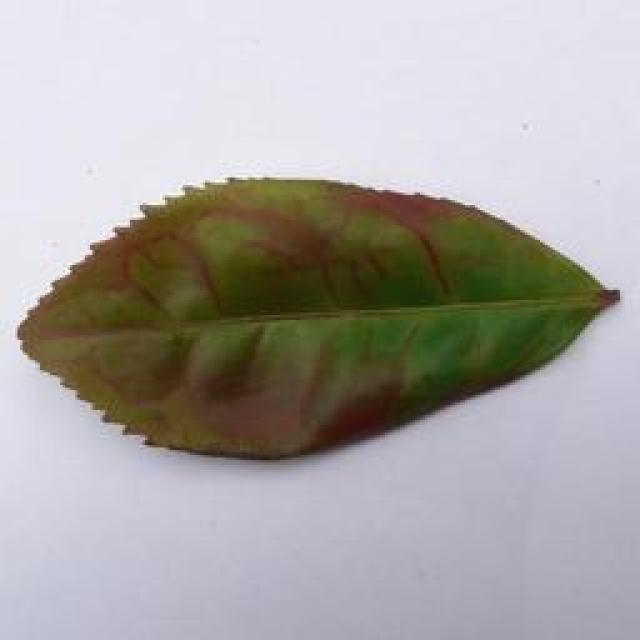Red Leaf Spot: (14, 162, 627, 460)
